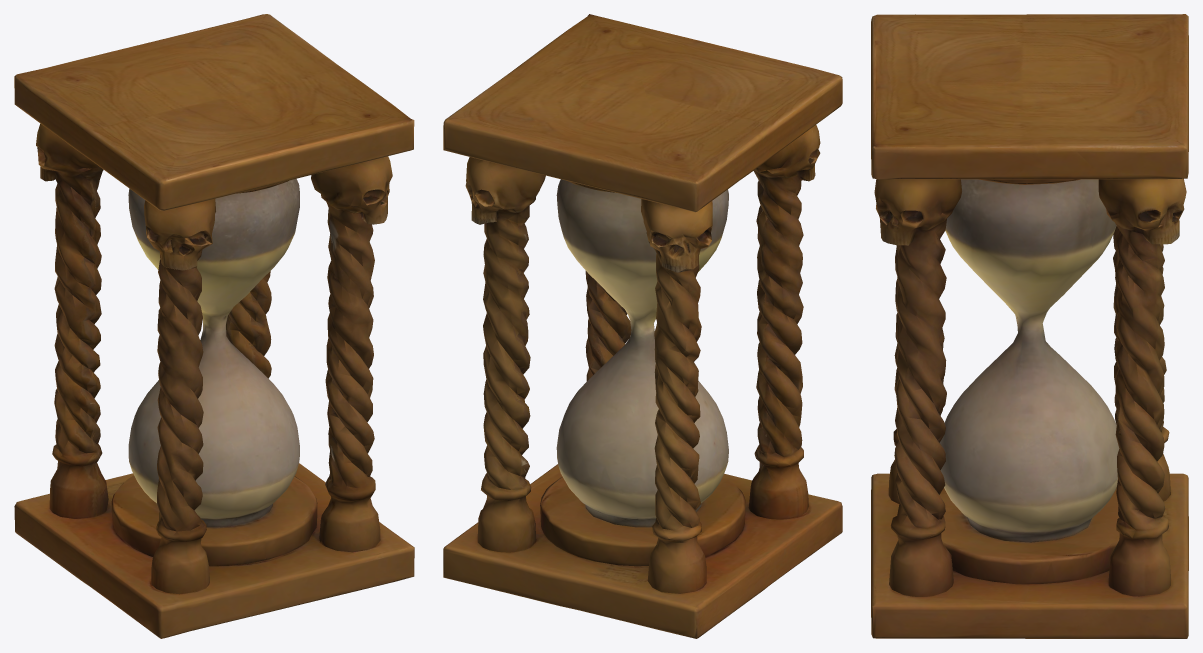
3 views of the same model, side by side, from view 1: azimuth 30°, elevation 25°; view 2: azimuth 150°, elevation 25°; view 3: azimuth 270°, elevation 25° (orthographic). The views are drawn at different scales.
Parts seen in each view (by area): view 1: Giant sand clock; view 2: Giant sand clock; view 3: Giant sand clock.
Boxes of the visible parts, left/top/right/bottom form: Giant sand clock: left=14, top=14, right=414, bottom=638; Giant sand clock: left=443, top=14, right=842, bottom=638; Giant sand clock: left=871, top=14, right=1188, bottom=638.
Bounding box in the file's own units: 1.17 × 2 × 1.17.
1 material, 1 textured.
